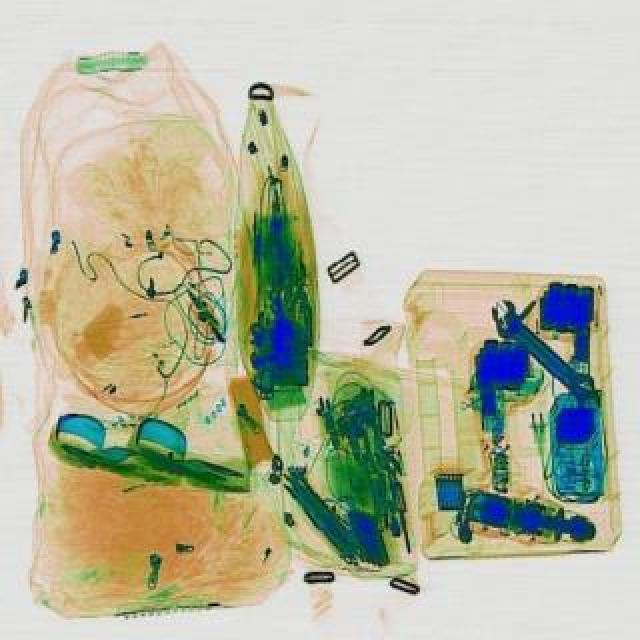scissors: (484, 294, 600, 400), (494, 310, 610, 412)
